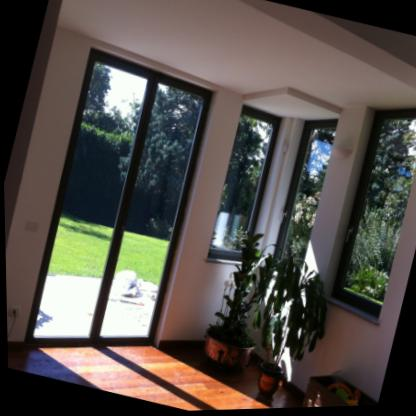Window: (25, 46, 212, 347), (331, 111, 416, 318), (204, 104, 279, 257), (270, 119, 339, 270)
